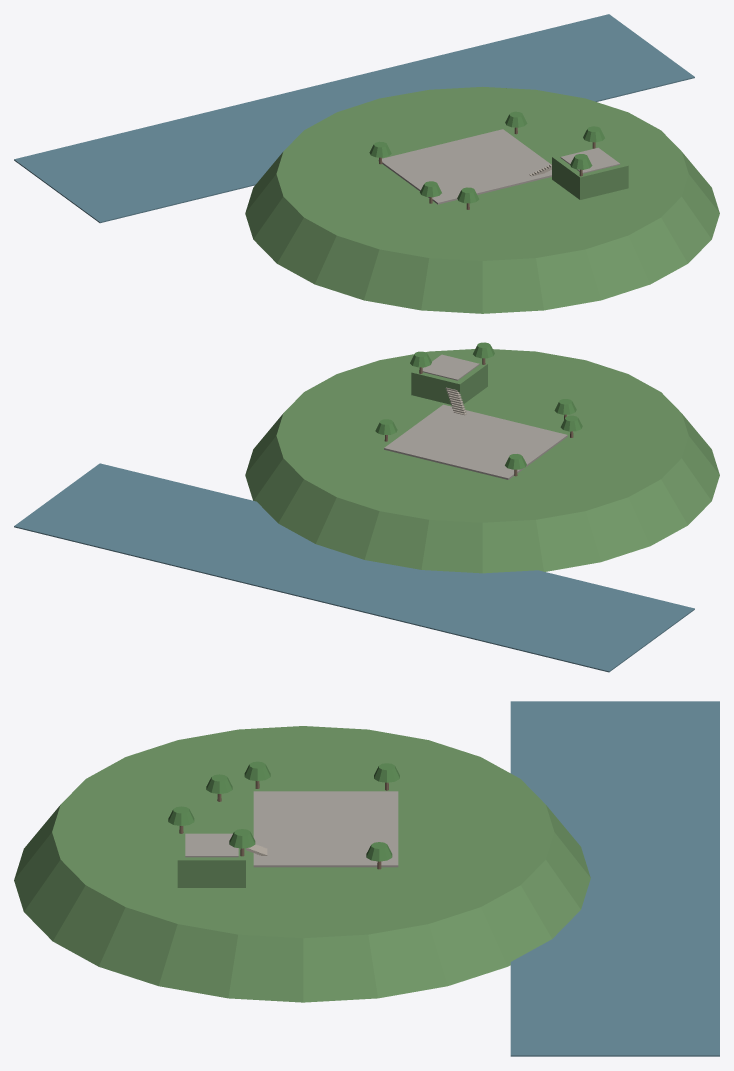
Rendered from nilachal_terrain.glb.
The picture shows the model from 3 angles, top to bottom: view 1: azimuth 30°, elevation 25°; view 2: azimuth 150°, elevation 25°; view 3: azimuth 270°, elevation 25°; orthographic projection. The views are drawn at different scales.
Parts seen in each view (by area): view 1: nilachal_terrain; view 2: nilachal_terrain; view 3: nilachal_terrain.
Boxes of the visible parts, x1,y1,x2,y2 form: nilachal_terrain: (14,14,719,313); nilachal_terrain: (14,342,719,672); nilachal_terrain: (14,701,719,1056).
Size of the model in its own units: 220 by 28.8 by 186.
